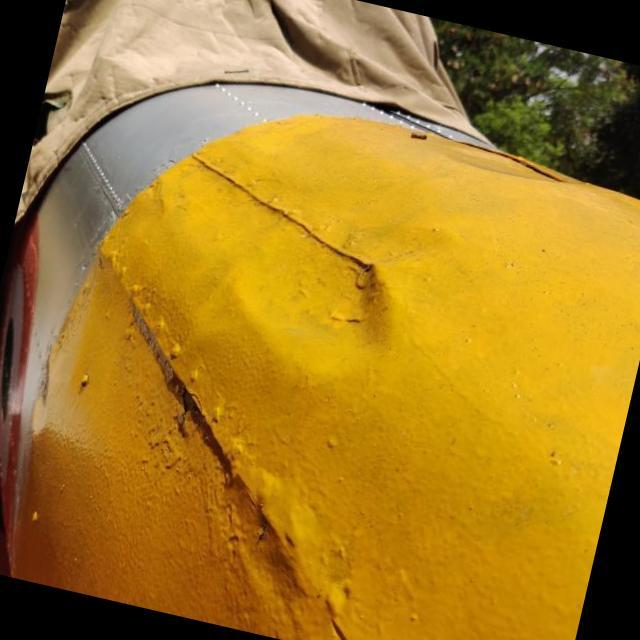Dent: (201, 201, 442, 418)
